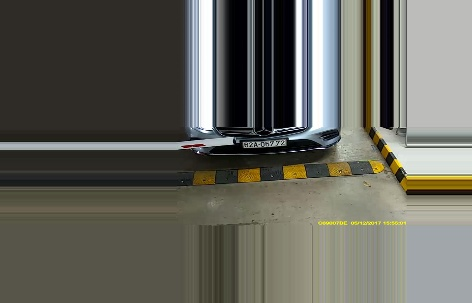plate: (239, 137, 291, 152)
